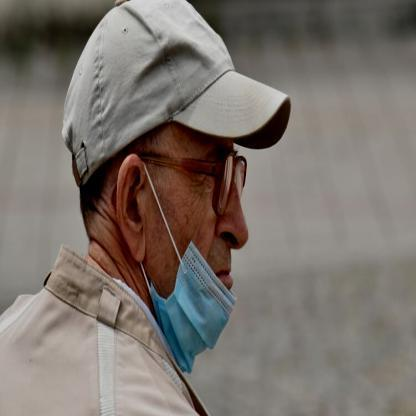mask_weared_incorrect: (104, 90, 252, 376)
